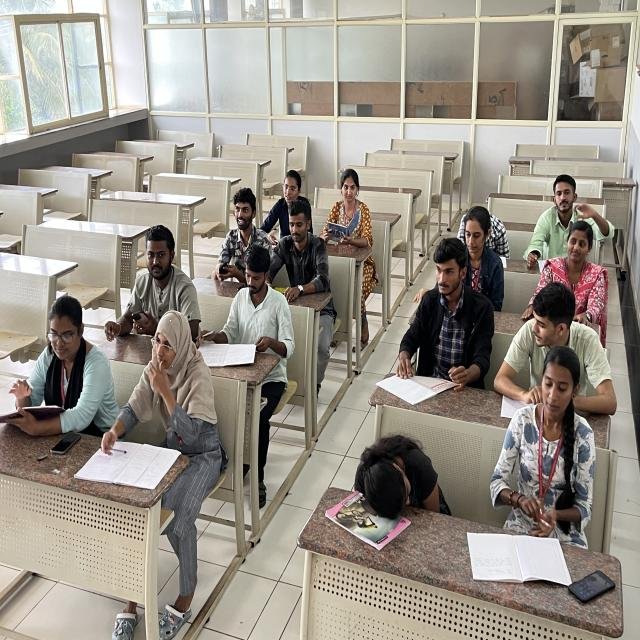Reading: (0, 294, 110, 443), (270, 192, 328, 311), (316, 163, 381, 261)
Sleeping: (350, 428, 447, 552)
Using Phone: (112, 216, 198, 347), (204, 184, 270, 282)
Writing: (95, 307, 225, 509), (490, 340, 599, 553), (396, 232, 494, 404), (198, 255, 292, 368)
